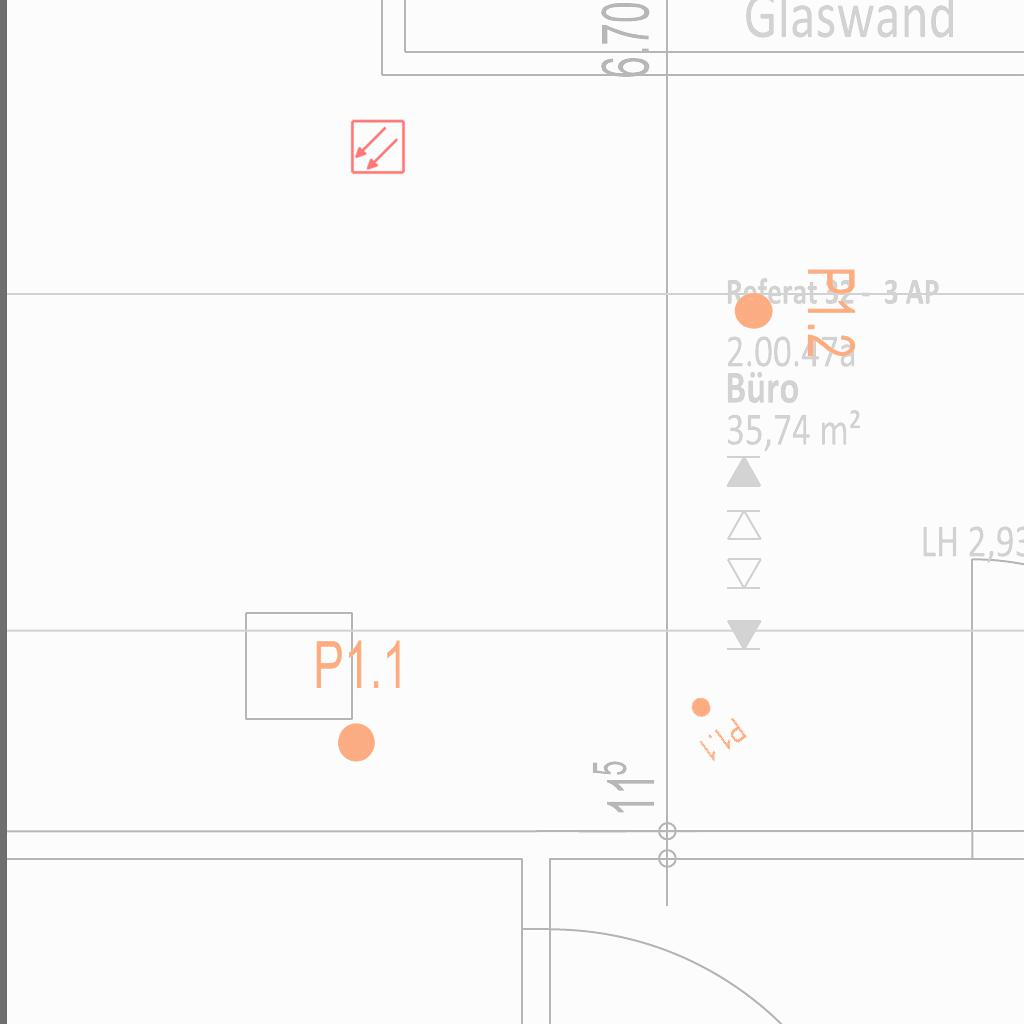Downlight_LED_Einbauleuchten_Flur: (313, 637, 406, 765), (731, 266, 859, 359), (674, 685, 750, 765)
RMO_Rauchmelder_optischer: (350, 119, 406, 175)
